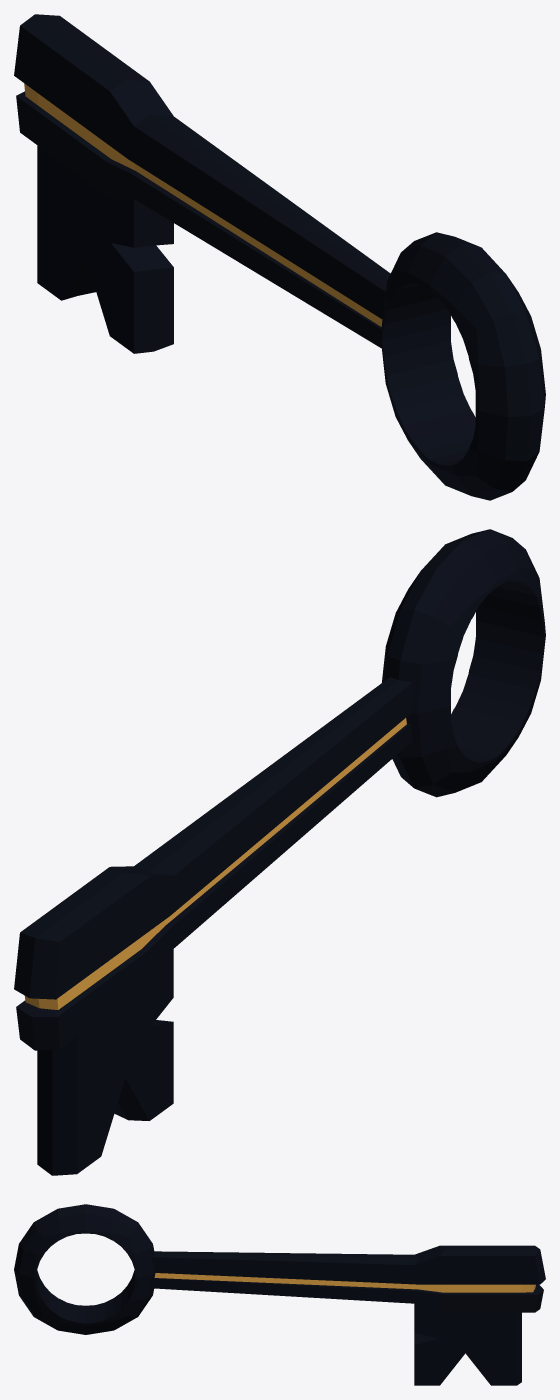
File: KeyJam.fbx
3 views of the same model, one above another, from view 1: azimuth 30°, elevation 25°; view 2: azimuth 150°, elevation 25°; view 3: azimuth 270°, elevation 25° (orthographic). The views are drawn at different scales.
Parts seen in each view (by area): view 1: Cube; view 2: Cube; view 3: Cube.
Part boxes in pixels (bbox=[...]): Cube: bbox=[14, 14, 545, 500]; Cube: bbox=[14, 529, 545, 1175]; Cube: bbox=[14, 1204, 545, 1385].
Bounding box in the file's own units: 12.03 × 56 × 152.
